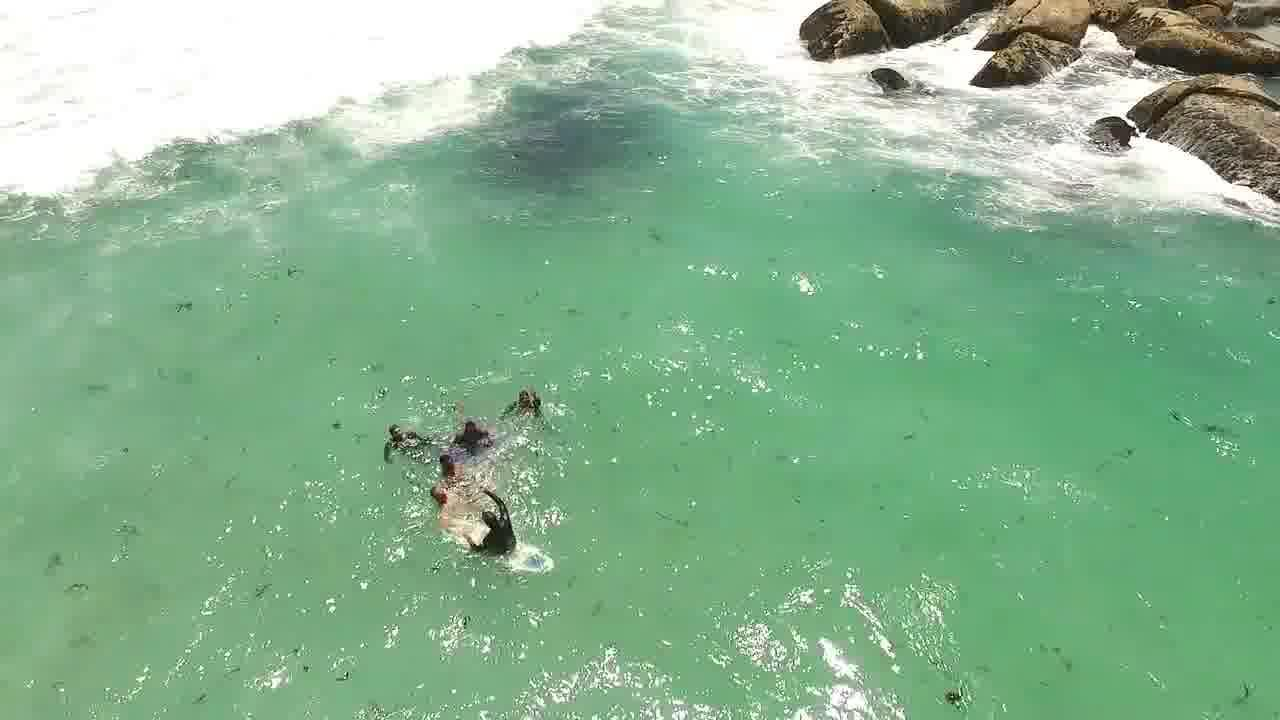human: (462, 485, 525, 555), (417, 475, 476, 529), (374, 418, 439, 463), (501, 378, 554, 424), (443, 402, 498, 446), (428, 447, 483, 481)
